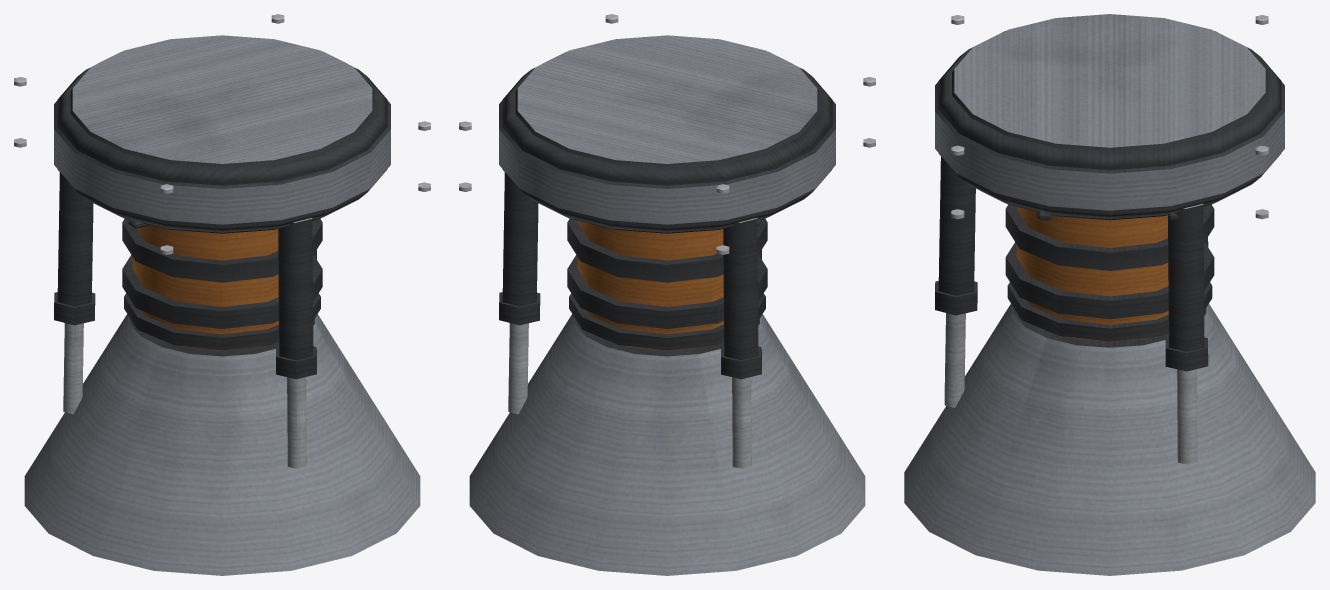
Rendered from R4X_JumpDrive.glb.
3 renders of one model, left to right at view 1: azimuth 30°, elevation 25°; view 2: azimuth 150°, elevation 25°; view 3: azimuth 270°, elevation 25°, orthographic. The views are drawn at different scales.
Visible parts, largest first — view 1: R4X_JumpDrive_Body; view 2: R4X_JumpDrive_Body; view 3: R4X_JumpDrive_Body.
Boxes of the visible parts, x1,y1,x2,y2 form: R4X_JumpDrive_Body: (14,14,430,575); R4X_JumpDrive_Body: (459,14,875,575); R4X_JumpDrive_Body: (904,14,1315,575).
Bounding box in the file's own units: 0.47 × 0.51 × 0.4629.
5 materials, 4 textured.
